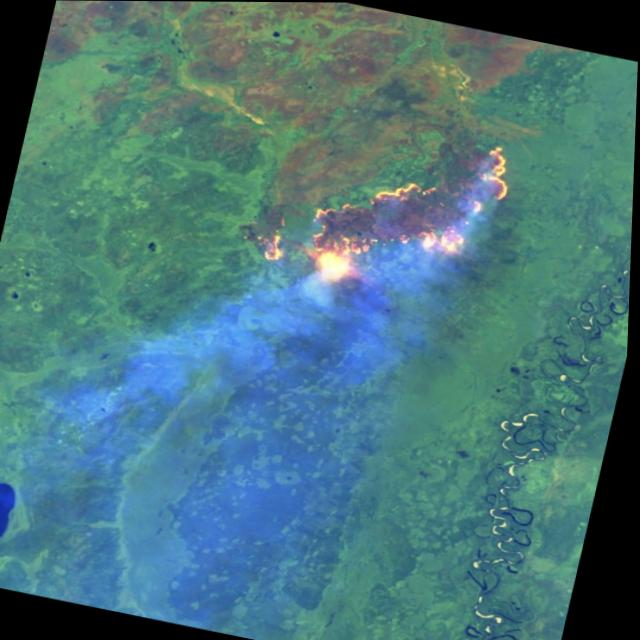fire: (246, 93, 530, 321)
